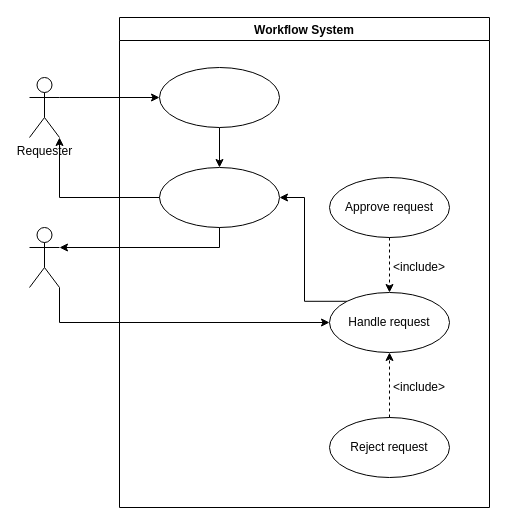
The diagram is 507 pixels wide and 525 high, and some of its shapes have lost their labels. Each missing label, with the centre of its shape:
Approver: the point at 44,257
Notify by email: the point at 219,197
Send request: the point at 219,97
